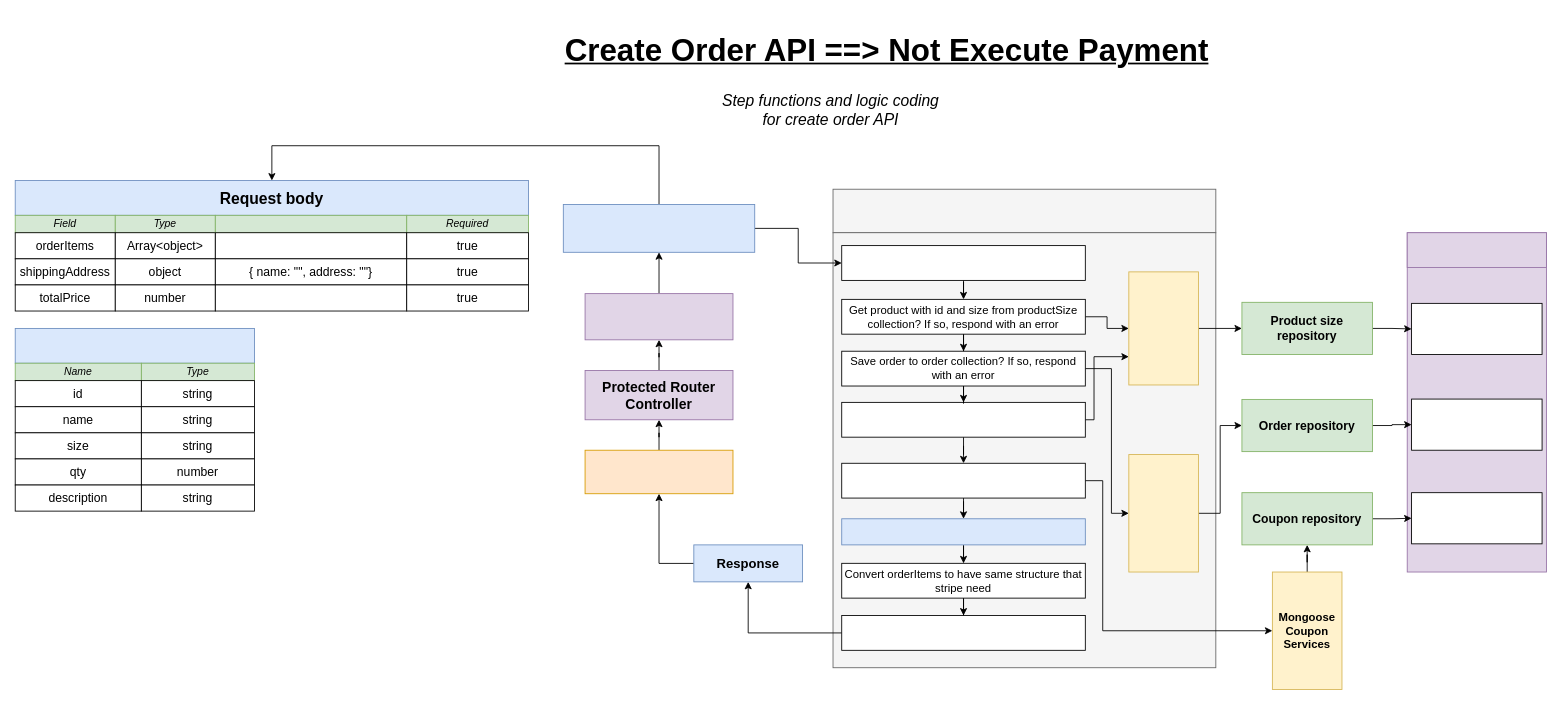
Some shapes in this 1562 by 705 pixel diagram are drawn without their labels. The centre of each missing label's shape, as x and y in pixels:
"Coupon Collection" belongs at (1476,518).
"Create checkout session stripe? If so, respond with an error" belongs at (963,632).
"Create Order (api/v1/order)" belongs at (658,228).
"Create Order Controller" belongs at (1024,210).
"Element in orderImages fields" belongs at (134,345).
"Example" belongs at (310,223).
"Get discount if request body have? If so, respond with and error" belongs at (963,480).
"Make payment web hook with stripe" belongs at (963,531).
"MongoDB" belongs at (1476,250).
"Mongoose Order Services" belongs at (1163,513).
"Mongoose ProductSize Services" belongs at (1163,328).
"Permission Roles" belongs at (658,316).
"Product Collection" belongs at (1476,328).
"Product Size Collection" belongs at (1476,424).
"React App" belongs at (658,471).
"Update to productSize collection? If so, respond with an error" belongs at (963,419).
"Validation field in body requests? If so, respond with error" belongs at (963,262).
